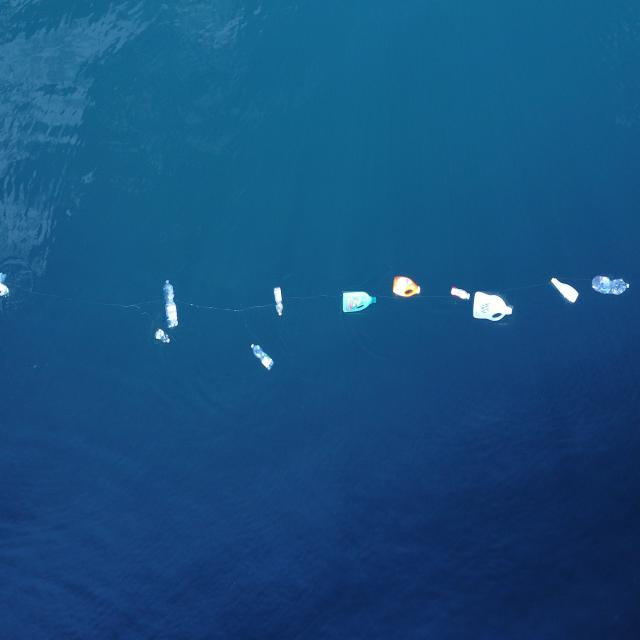bottles: (472, 291, 514, 323), (591, 274, 630, 296), (162, 278, 179, 328), (551, 275, 580, 304), (342, 291, 377, 313), (250, 342, 274, 371), (392, 275, 421, 298), (450, 285, 471, 301), (274, 286, 284, 317), (154, 328, 170, 344)
